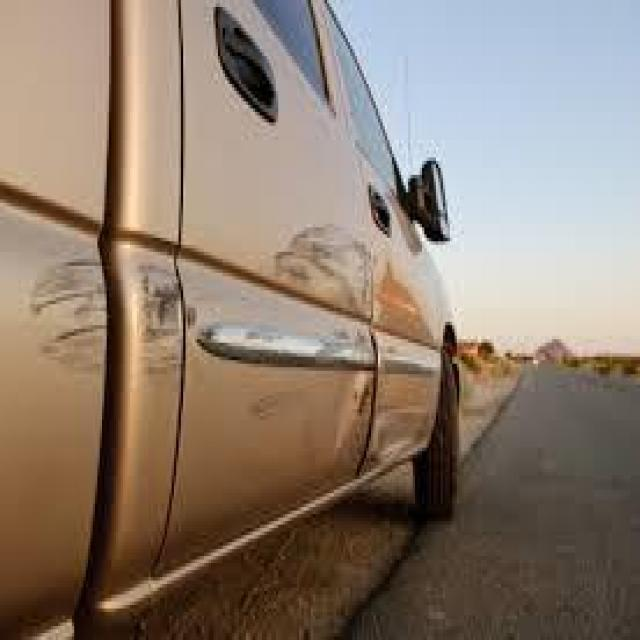damaged: (246, 224, 420, 466), (30, 258, 202, 384)
